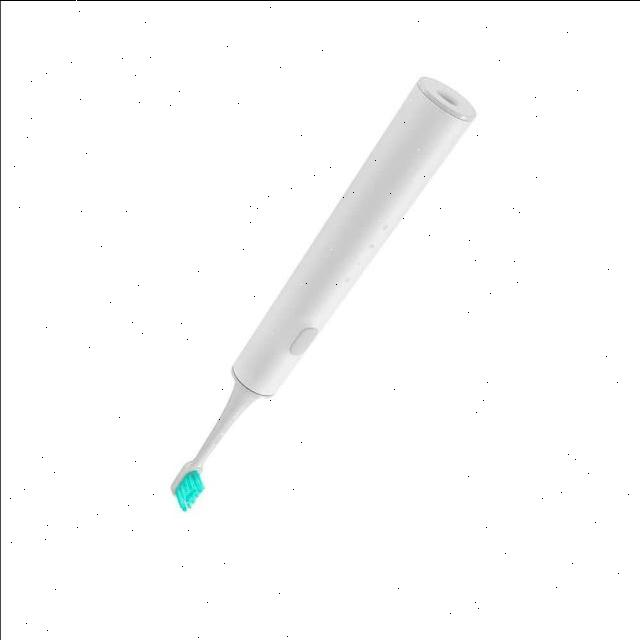toothbrush: (130, 349, 304, 517)
